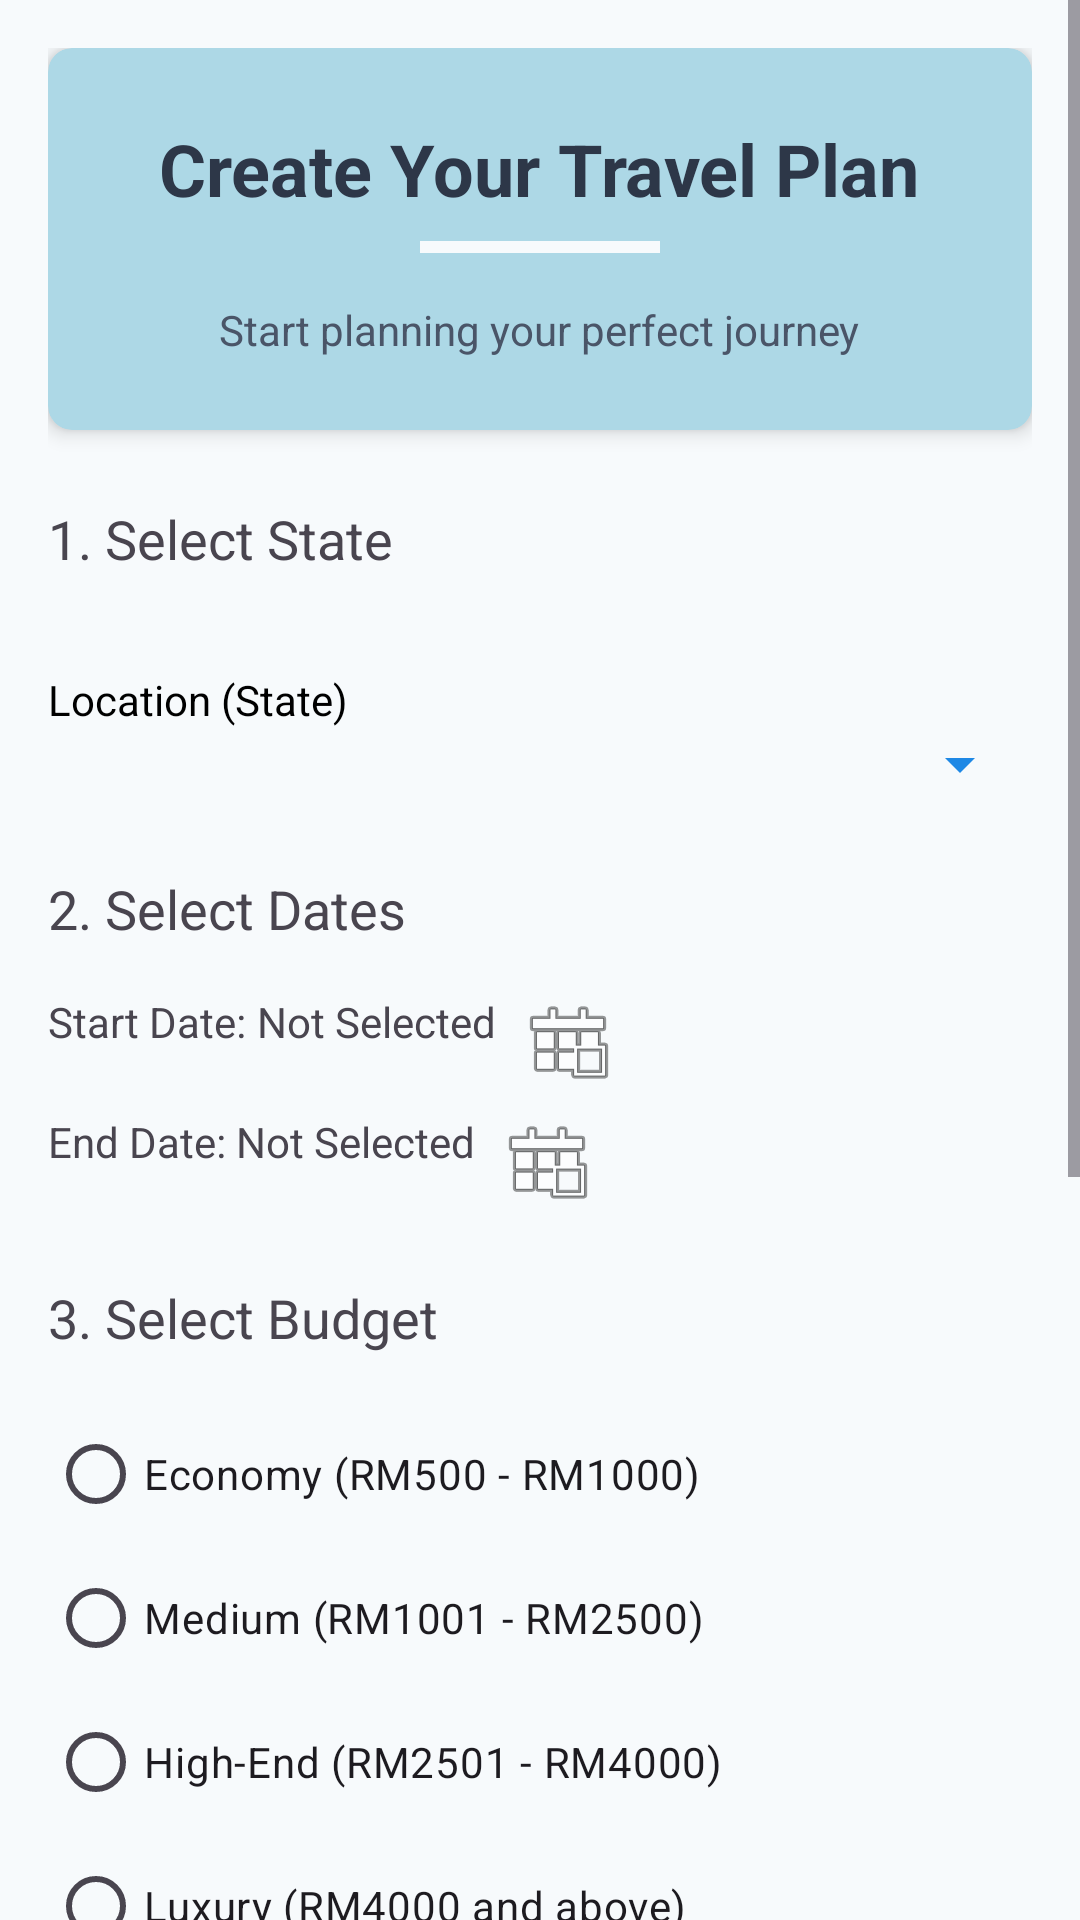

Point at icon controls on the screen. Image size 1080w x 1920h, points as point (x, y).
Select End Date: point (548, 1162)
Select Start Date: point (569, 1042)
